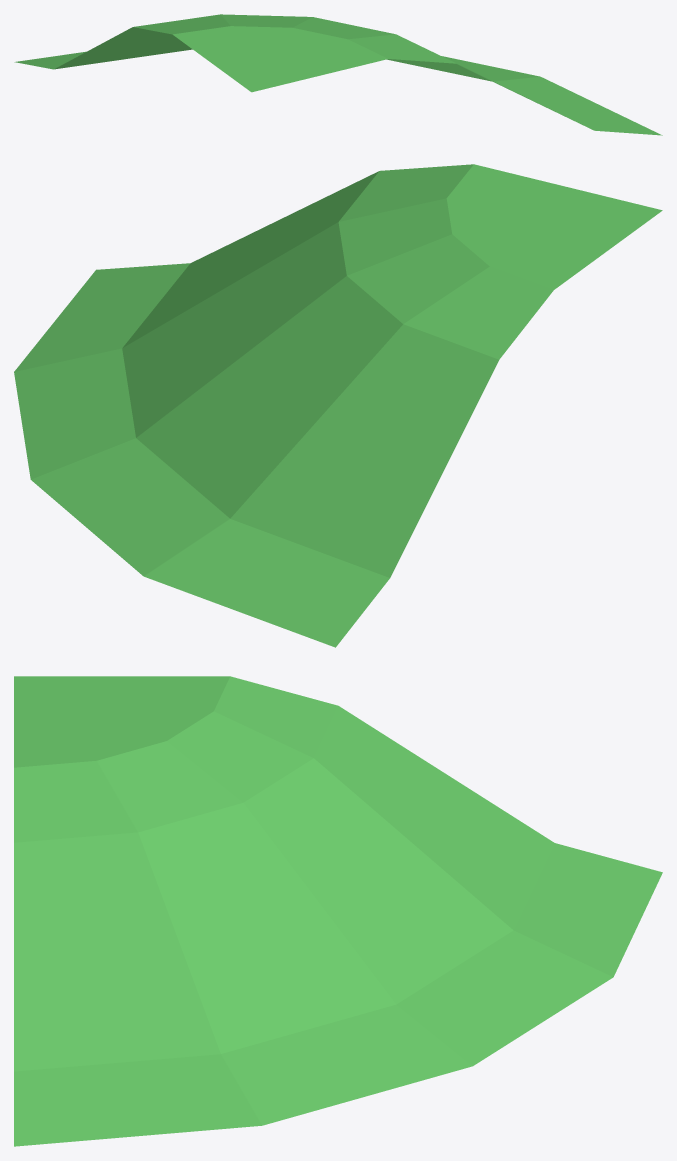
File: Hilly_Terrain_Hill_Corner_Outer_3x3.glb
3 renders of one model, top to bottom at view 1: azimuth 30°, elevation 25°; view 2: azimuth 150°, elevation 25°; view 3: azimuth 270°, elevation 25°, orthographic. The views are drawn at different scales.
Visible parts, largest first — view 1: Hilly_Terrain_Hill_Corner_Outer_3x3; view 2: Hilly_Terrain_Hill_Corner_Outer_3x3; view 3: Hilly_Terrain_Hill_Corner_Outer_3x3.
Boxes of the visible parts, x1,y1,x2,y2 form: Hilly_Terrain_Hill_Corner_Outer_3x3: (14,14,662,135); Hilly_Terrain_Hill_Corner_Outer_3x3: (14,164,662,647); Hilly_Terrain_Hill_Corner_Outer_3x3: (14,676,662,1146).
Size of the model in its own units: 1.59 by 0.53 by 1.59.
